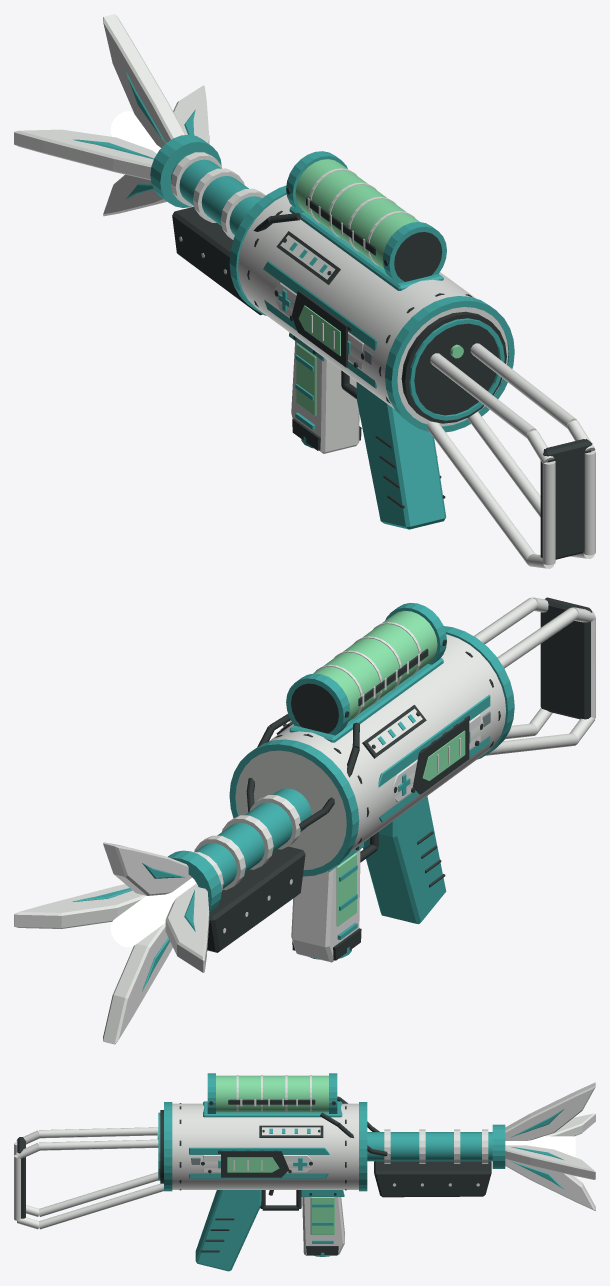
Rendered from medic_0.glb.
3 views of the same model, one above another, from view 1: azimuth 30°, elevation 25°; view 2: azimuth 150°, elevation 25°; view 3: azimuth 270°, elevation 25° (orthographic). The views are drawn at different scales.
Visible parts, largest first — view 1: Weapon_medic_v1; view 2: Weapon_medic_v1; view 3: Weapon_medic_v1.
Boxes of the visible parts, left/top/right/bottom form: Weapon_medic_v1: left=14, top=14, right=595, bottom=568; Weapon_medic_v1: left=14, top=597, right=595, bottom=1044; Weapon_medic_v1: left=14, top=1073, right=595, bottom=1271.
Size of the model in its own units: 0.1982 by 0.3022 by 0.8351.
